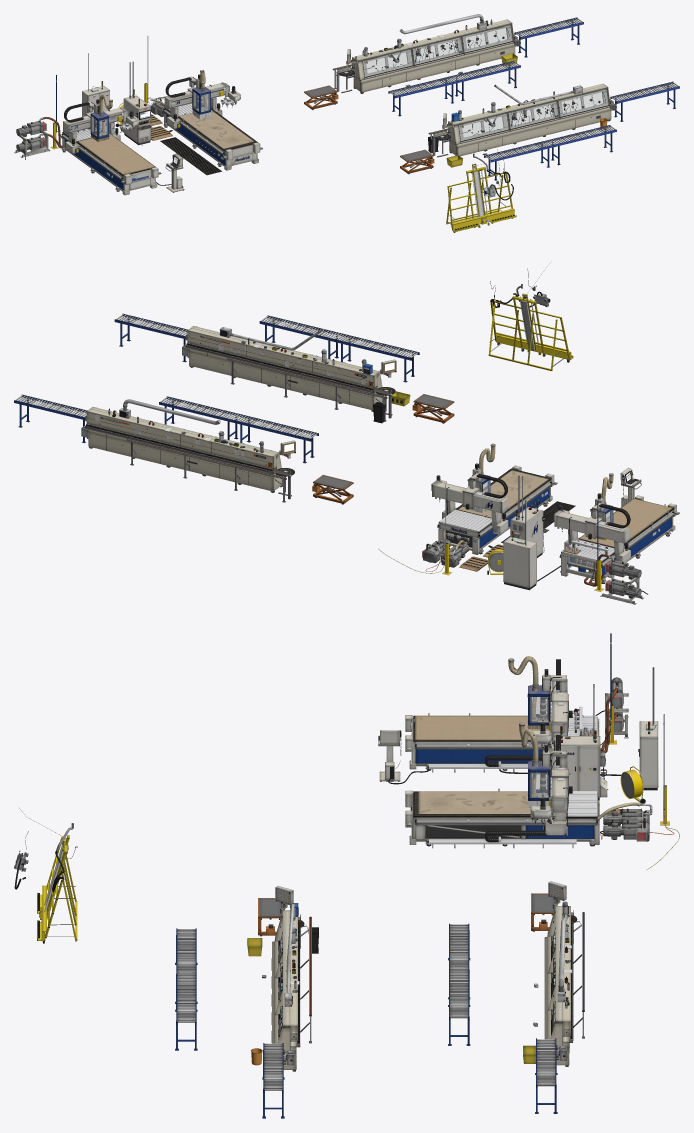
Rendered from machines_tex.glb.
3 views of the same model, one above another, from view 1: azimuth 30°, elevation 25°; view 2: azimuth 150°, elevation 25°; view 3: azimuth 270°, elevation 25° (orthographic). The views are drawn at different scales.
Visible parts, largest first — view 1: EB_1_EB_Body, EB_2_EB_Body, PanelSaw_PanelSaw, Bed, Bed.001, CNC1_Spoilboard, CNC2_Spoilboard, Gantry, Gantry.001, ElectricalCabinet, VacuumPumps.001, HeadCarriage.001 (+19 smaller); view 2: EB_1_EB_Body, EB_2_EB_Body, PanelSaw_PanelSaw, Bed, Bed.001, ElectricalCabinet.001, Gantry, Gantry.001, CNC1_Spoilboard, VacuumPumps.001, ElectricalCabinet, CNC2_Spoilboard (+14 smaller); view 3: Bed, EB_1_EB_Body, EB_2_EB_Body, Bed.001, CNC1_Spoilboard, CNC2_Spoilboard, ElectricalCabinet, PanelSaw_PanelSaw, HeadCarriage, HeadCarriage.001, Gantry, ElectricalCabinet.001 (+14 smaller).
Part boxes in pixels (left/top/right/bottom): EB_1_EB_Body: left=332, top=19, right=520, bottom=93; EB_2_EB_Body: left=428, top=83, right=616, bottom=156; PanelSaw_PanelSaw: left=446, top=163, right=516, bottom=232; Bed: left=163, top=108, right=262, bottom=170; Bed.001: left=61, top=133, right=161, bottom=195; CNC1_Spoilboard: left=78, top=133, right=155, bottom=174; CNC2_Spoilboard: left=179, top=110, right=254, bottom=149; Gantry: left=164, top=82, right=240, bottom=129; Gantry.001: left=63, top=107, right=138, bottom=153; ElectricalCabinet: left=120, top=61, right=152, bottom=145; VacuumPumps.001: left=14, top=118, right=50, bottom=159; HeadCarriage.001: left=85, top=94, right=112, bottom=141; EB_1_EB_Body: left=81, top=407, right=291, bottom=502; EB_2_EB_Body: left=182, top=326, right=392, bottom=421; PanelSaw_PanelSaw: left=488, top=293, right=573, bottom=370; Bed: left=437, top=465, right=557, bottom=554; Bed.001: left=559, top=495, right=679, bottom=583; ElectricalCabinet.001: left=503, top=500, right=536, bottom=590; Gantry: left=431, top=475, right=508, bottom=534; Gantry.001: left=553, top=505, right=630, bottom=562; CNC1_Spoilboard: left=579, top=498, right=672, bottom=547; VacuumPumps.001: left=600, top=557, right=648, bottom=604; ElectricalCabinet: left=510, top=475, right=548, bottom=557; CNC2_Spoilboard: left=458, top=470, right=548, bottom=518; Bed: left=405, top=790, right=599, bottom=846; EB_1_EB_Body: left=544, top=906, right=584, bottom=1066; EB_2_EB_Body: left=271, top=910, right=311, bottom=1071; Bed.001: left=405, top=715, right=599, bottom=770; CNC1_Spoilboard: left=415, top=715, right=552, bottom=740; CNC2_Spoilboard: left=418, top=791, right=552, bottom=814; ElectricalCabinet: left=551, top=684, right=608, bottom=800; PanelSaw_PanelSaw: left=37, top=835, right=77, bottom=943; HeadCarriage: left=519, top=722, right=572, bottom=807; HeadCarriage.001: left=508, top=656, right=572, bottom=729; Gantry: left=530, top=754, right=568, bottom=835; ElectricalCabinet.001: left=638, top=667, right=658, bottom=790.
Size of the model in its own units: 25.94 by 3.31 by 18.04.
Materials: 146 (143 with a texture image).
